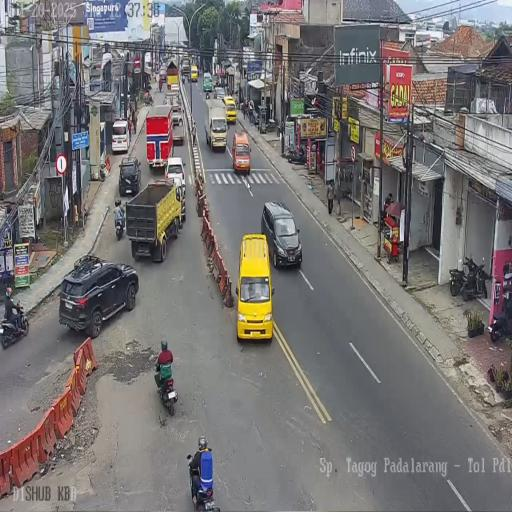car: (58, 255, 138, 336), (235, 233, 272, 339), (261, 200, 300, 268), (118, 156, 141, 196), (232, 130, 250, 174), (164, 156, 186, 190), (112, 119, 130, 154), (224, 94, 237, 124), (202, 72, 212, 94), (214, 86, 225, 102), (191, 64, 198, 82), (212, 72, 219, 88)
motorcycle: (188, 450, 218, 511), (0, 300, 29, 348), (155, 357, 178, 415), (488, 294, 511, 342), (449, 256, 469, 297), (475, 256, 489, 300), (114, 205, 126, 240), (286, 144, 306, 164), (144, 90, 154, 107), (241, 98, 249, 118), (276, 120, 282, 138), (197, 65, 201, 75)
truck: (126, 178, 185, 262), (145, 104, 173, 171), (203, 98, 228, 153), (169, 104, 184, 144), (181, 58, 190, 80), (144, 52, 151, 72)
